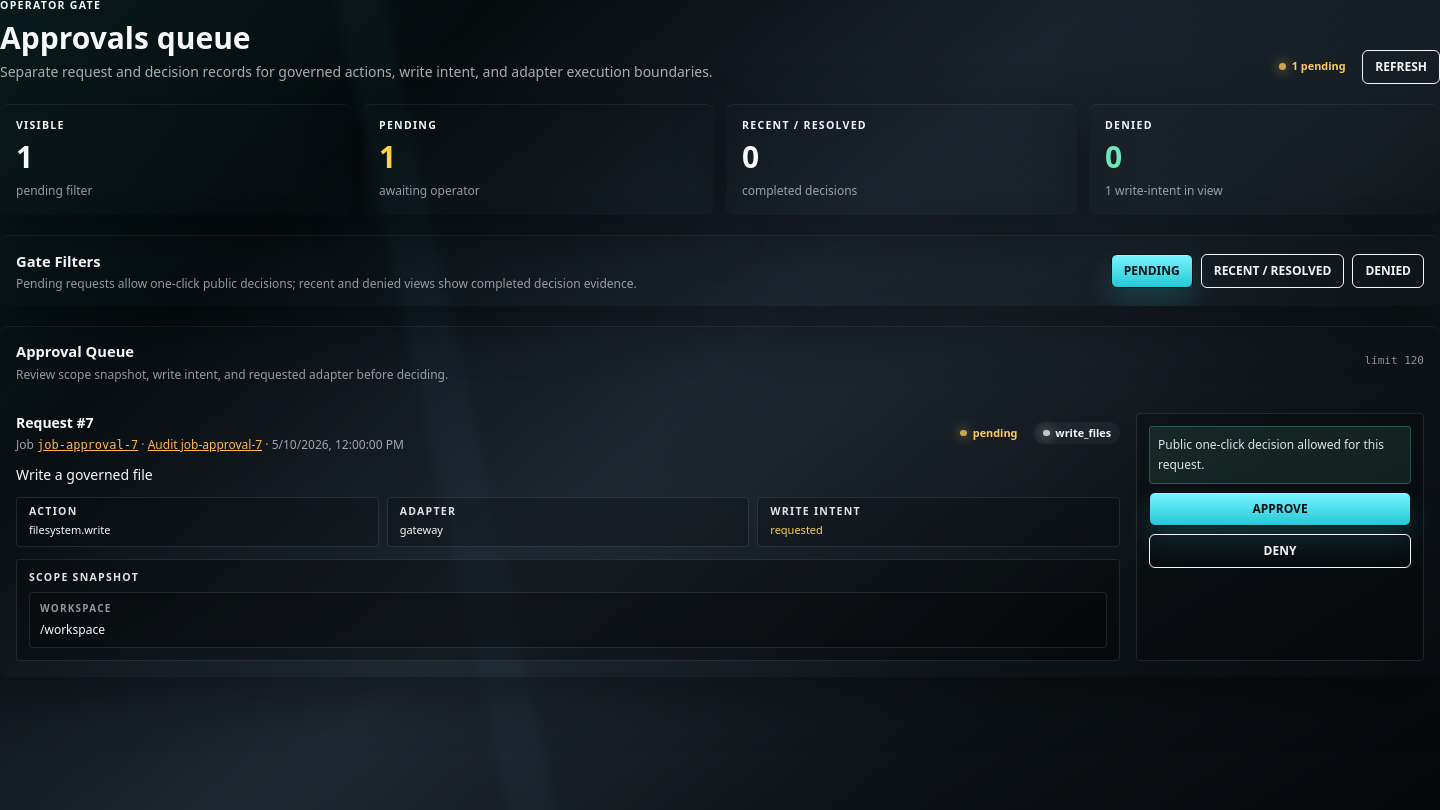
Test: ApprovalsPage decision controls › renders decision API errors instead of leaving an unhandled failure
Click the button with aria-label "Deny request 7": (1280, 551) [1149,534,1411,568]
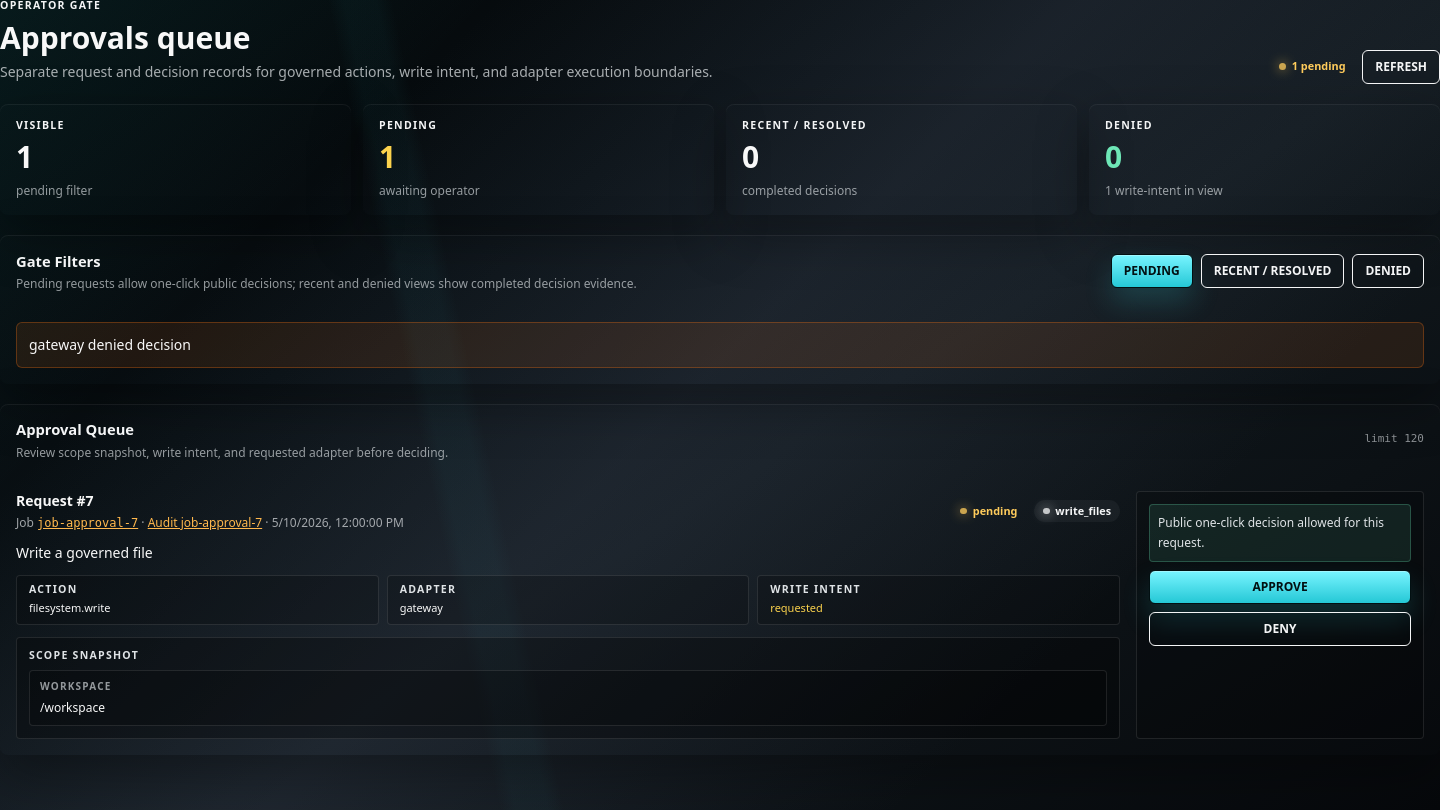
expect the text "gateway denied decision" is shown: met, box [16,322,1424,368]
